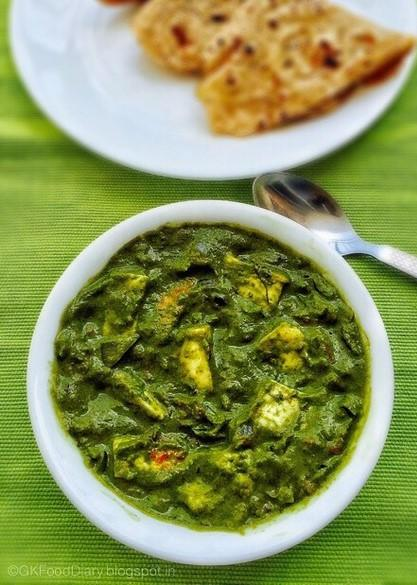PalakPaneer: (55, 226, 367, 533)
